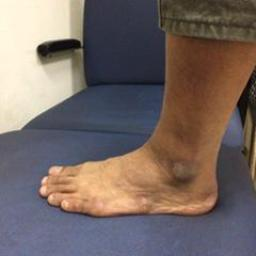Lateral View -Left Foot-: (34, 120, 239, 226)
